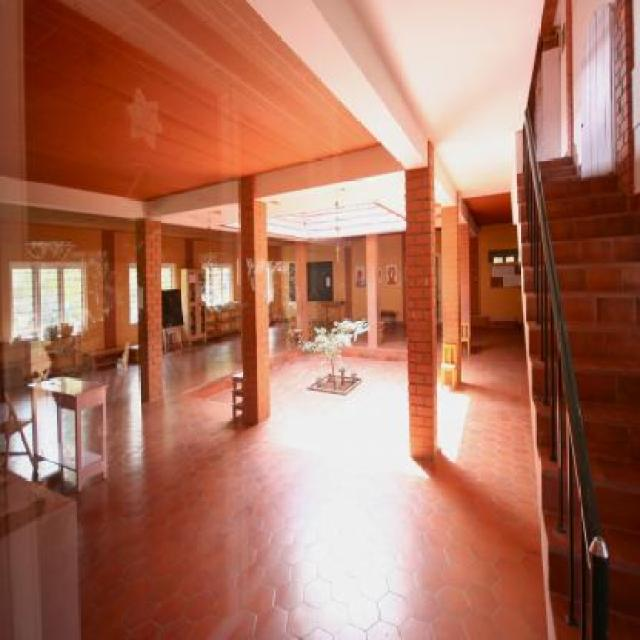stair: (515, 146, 640, 640)
